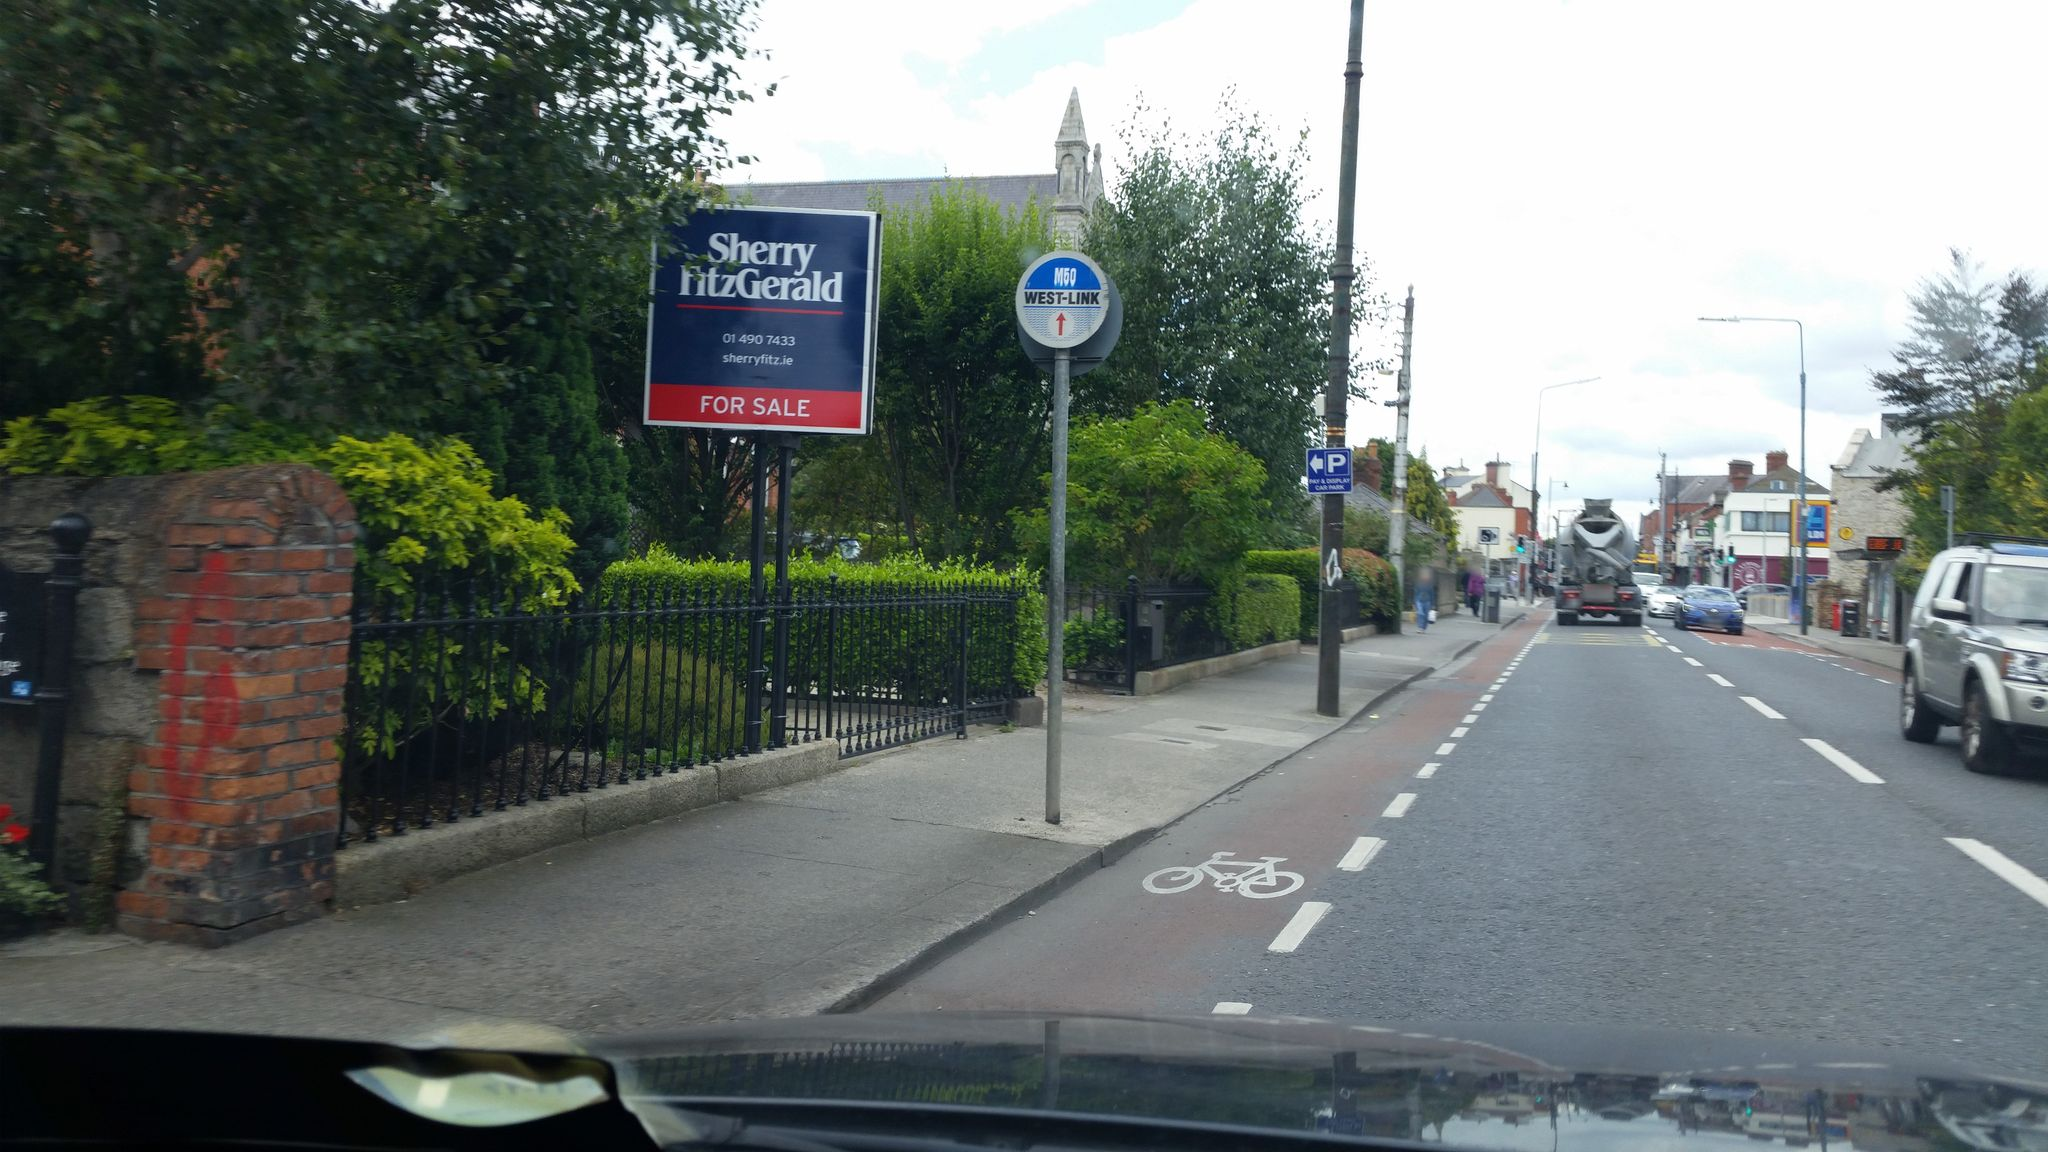property sign: (629, 158, 900, 482)
